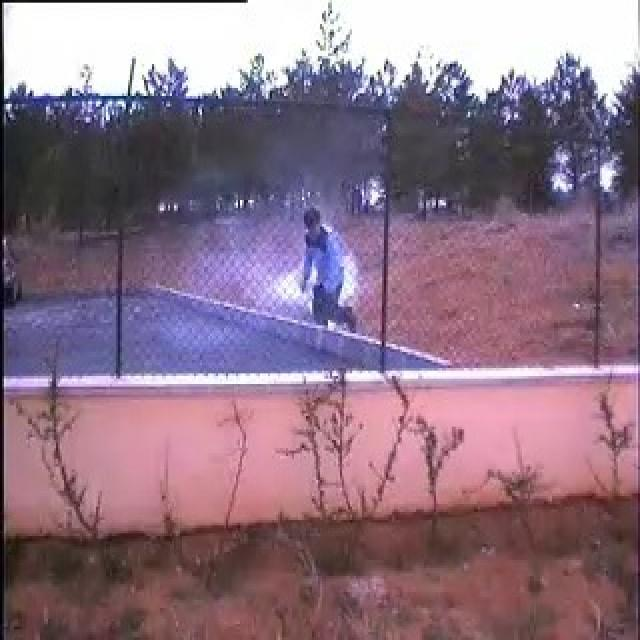smoke: (228, 254, 314, 315)
